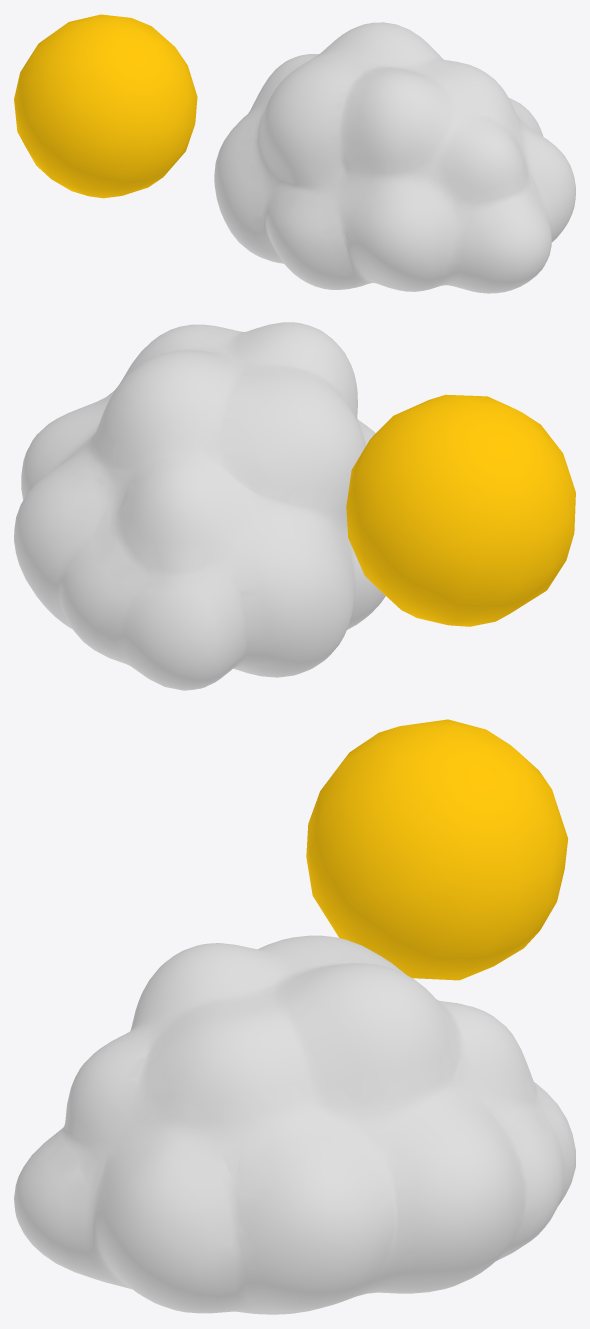
File: cloud__sun_lowpoly.glb
The picture shows the model from 3 angles, top to bottom: view 1: azimuth 30°, elevation 25°; view 2: azimuth 150°, elevation 25°; view 3: azimuth 270°, elevation 25°; orthographic projection. The views are drawn at different scales.
Parts seen in each view (by area): view 1: Cloud.001, Sphere.001; view 2: Cloud.001, Sphere.001; view 3: Cloud.001, Sphere.001.
Boxes of the visible parts, <box> form: Cloud.001: <box>214,22,575,293</box>; Sphere.001: <box>14,14,197,198</box>; Cloud.001: <box>14,322,385,690</box>; Sphere.001: <box>346,394,575,626</box>; Cloud.001: <box>14,935,575,1314</box>; Sphere.001: <box>306,719,568,980</box>.
Size of the model in its own units: 2.25 by 1.25 by 1.66.
